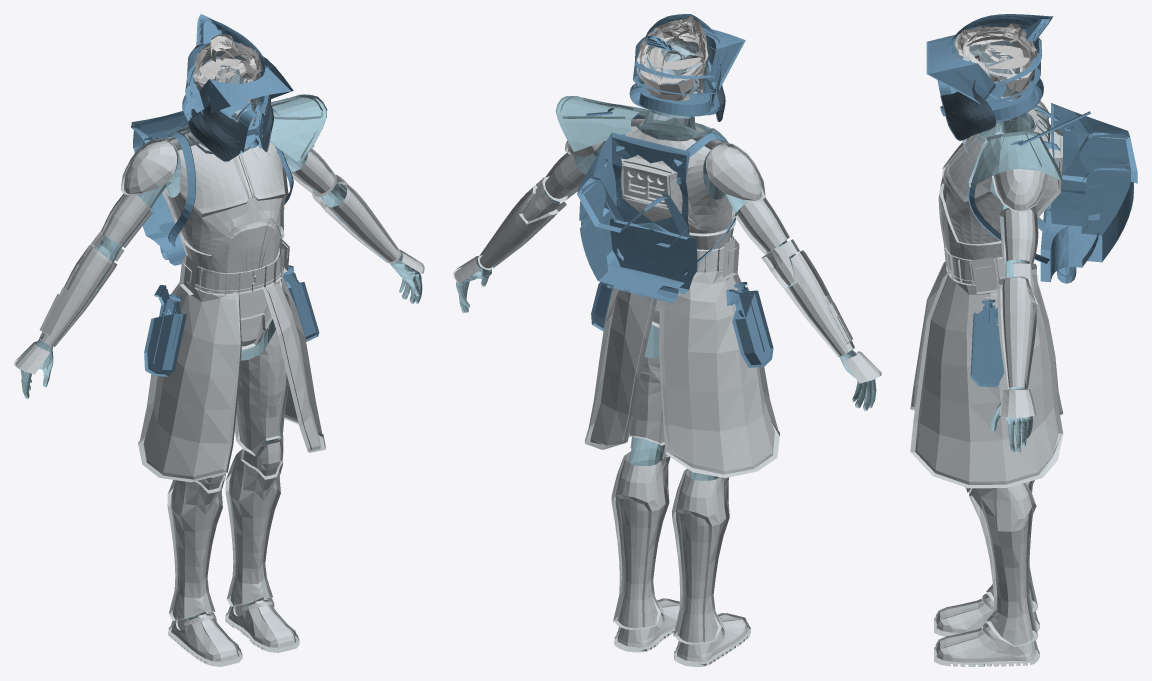
The model's file is 821_arf.glb.
3 views of the same model, side by side, from view 1: azimuth 30°, elevation 25°; view 2: azimuth 150°, elevation 25°; view 3: azimuth 270°, elevation 25° (orthographic). The views are drawn at different scales.
Parts seen in each view (by area): view 1: bg_01_armor__option_00_clone_armor.smd__mesh_00, bg_08_kama__option_01_kama.smd__mesh_00, bg_02_helmet__option_00_arfhelmet.smd__mesh_00, bg_10_Backpack__option_01_backpack.smd__mesh_00, bg_00_body__option_00_body.smd__mesh_00, bg_09_holsters__option_01_holsters.smd__mesh_00, bg_07_pauldron__option_01_pauldron.smd__mesh_00, bg_05_Helmet Pads__option_00_arf_kilt.smd__mesh_00, bg_02_helmet__option_01_new_head.smd__mesh_00; view 2: bg_01_armor__option_00_clone_armor.smd__mesh_00, bg_08_kama__option_01_kama.smd__mesh_00, bg_10_Backpack__option_01_backpack.smd__mesh_00, bg_00_body__option_00_body.smd__mesh_00, bg_02_helmet__option_00_arfhelmet.smd__mesh_00, bg_07_pauldron__option_01_pauldron.smd__mesh_00, bg_09_holsters__option_01_holsters.smd__mesh_00, bg_02_helmet__option_01_new_head.smd__mesh_00, bg_03_Hair__option_04_hair4_reference.smd__mesh_00, bg_03_Hair__option_15_hair_slick.smd__mesh_00; view 3: bg_01_armor__option_00_clone_armor.smd__mesh_00, bg_08_kama__option_01_kama.smd__mesh_00, bg_10_Backpack__option_01_backpack.smd__mesh_00, bg_02_helmet__option_00_arfhelmet.smd__mesh_00, bg_07_pauldron__option_01_pauldron.smd__mesh_00, bg_09_holsters__option_01_holsters.smd__mesh_00, bg_00_body__option_00_body.smd__mesh_00, bg_05_Helmet Pads__option_00_arf_kilt.smd__mesh_00, bg_02_helmet__option_01_new_head.smd__mesh_00, bg_03_Hair__option_15_hair_slick.smd__mesh_00, bg_03_Hair__option_04_hair4_reference.smd__mesh_00, bg_03_Hair__option_10_clone_hair_party.smd__mesh_00 (+1 smaller).
Boxes of the visible parts, x1,y1,x2,y2 form: bg_01_armor__option_00_clone_armor.smd__mesh_00: (14,129,424,666); bg_08_kama__option_01_kama.smd__mesh_00: (138,276,325,482); bg_02_helmet__option_00_arfhelmet.smd__mesh_00: (182,14,293,153); bg_10_Backpack__option_01_backpack.smd__mesh_00: (131,111,293,265); bg_00_body__option_00_body.smd__mesh_00: (19,146,422,620); bg_09_holsters__option_01_holsters.smd__mesh_00: (144,265,319,376); bg_07_pauldron__option_01_pauldron.smd__mesh_00: (167,94,327,163); bg_05_Helmet Pads__option_00_arf_kilt.smd__mesh_00: (188,94,273,161); bg_02_helmet__option_01_new_head.smd__mesh_00: (194,48,260,121); bg_01_armor__option_00_clone_armor.smd__mesh_00: (453,119,881,666); bg_08_kama__option_01_kama.smd__mesh_00: (584,268,779,477); bg_10_Backpack__option_01_backpack.smd__mesh_00: (577,114,735,302); bg_00_body__option_00_body.smd__mesh_00: (456,109,876,480); bg_02_helmet__option_00_arfhelmet.smd__mesh_00: (629,14,745,116); bg_07_pauldron__option_01_pauldron.smd__mesh_00: (555,96,728,151); bg_09_holsters__option_01_holsters.smd__mesh_00: (591,282,773,367); bg_02_helmet__option_01_new_head.smd__mesh_00: (636,30,707,125); bg_03_Hair__option_04_hair4_reference.smd__mesh_00: (640,32,708,100); bg_03_Hair__option_15_hair_slick.smd__mesh_00: (643,25,701,69); bg_01_armor__option_00_clone_armor.smd__mesh_00: (934,101,1062,666); bg_08_kama__option_01_kama.smd__mesh_00: (910,261,1063,488); bg_10_Backpack__option_01_backpack.smd__mesh_00: (968,103,1137,283); bg_02_helmet__option_00_arfhelmet.smd__mesh_00: (926,14,1052,122); bg_07_pauldron__option_01_pauldron.smd__mesh_00: (962,107,1062,187); bg_09_holsters__option_01_holsters.smd__mesh_00: (970,299,1004,387); bg_00_body__option_00_body.smd__mesh_00: (957,112,1034,635); bg_05_Helmet Pads__option_00_arf_kilt.smd__mesh_00: (940,80,996,140); bg_02_helmet__option_01_new_head.smd__mesh_00: (961,34,1023,117); bg_03_Hair__option_15_hair_slick.smd__mesh_00: (966,30,1030,68); bg_03_Hair__option_04_hair4_reference.smd__mesh_00: (963,35,1037,98); bg_03_Hair__option_10_clone_hair_party.smd__mesh_00: (964,26,1036,78).
Size of the model in its own units: 52.96 by 75.02 by 24.65.
